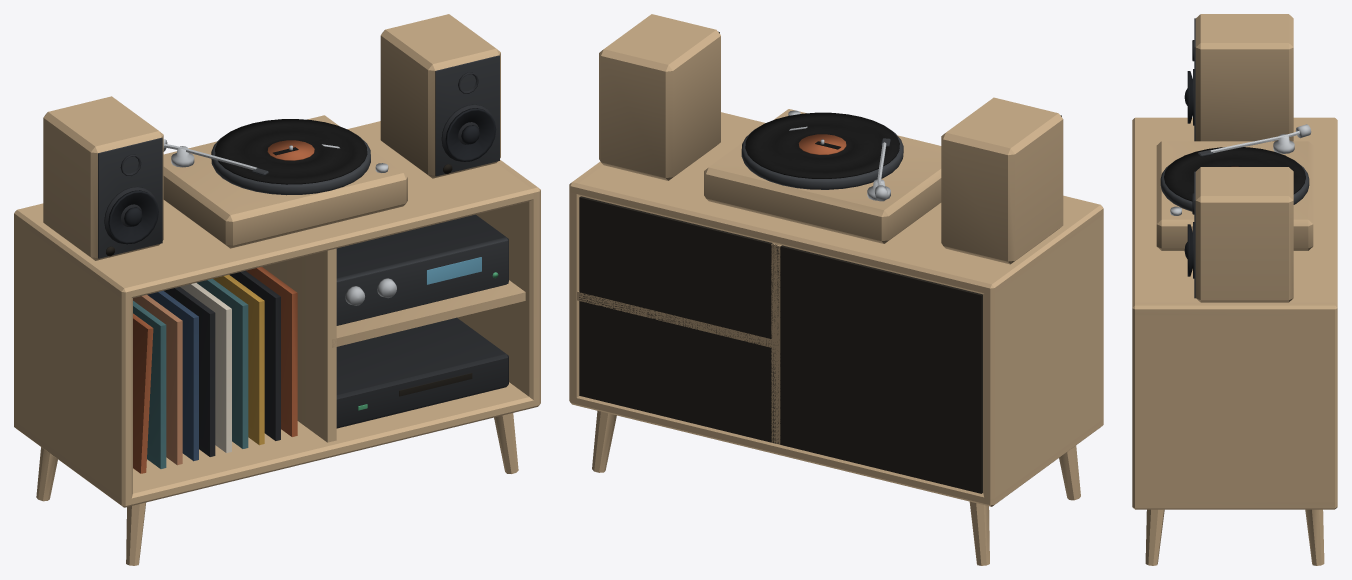
Rendered from stereo.glb.
The picture shows the model from 3 angles, left to right: view 1: azimuth 30°, elevation 25°; view 2: azimuth 150°, elevation 25°; view 3: azimuth 270°, elevation 25°; orthographic projection. The views are drawn at different scales.
Parts seen in each view (by area): view 1: stereo, record, cones; view 2: stereo, record; view 3: stereo, record, cones.
Boxes of the visible parts, x1=… form: stereo: x1=14, y1=14, x2=540, y2=565; record: x1=211, y1=119, x2=370, y2=195; cones: x1=108, y1=108, x2=496, y2=244; stereo: x1=569, y1=14, x2=1103, y2=565; record: x1=741, y1=112, x2=903, y2=189; stereo: x1=1132, y1=14, x2=1337, y2=565; record: x1=1160, y1=147, x2=1309, y2=211; cones: x1=1184, y1=71, x2=1192, y2=276.
Bounding box in the file's own units: 0.92 × 0.8417 × 0.42.
